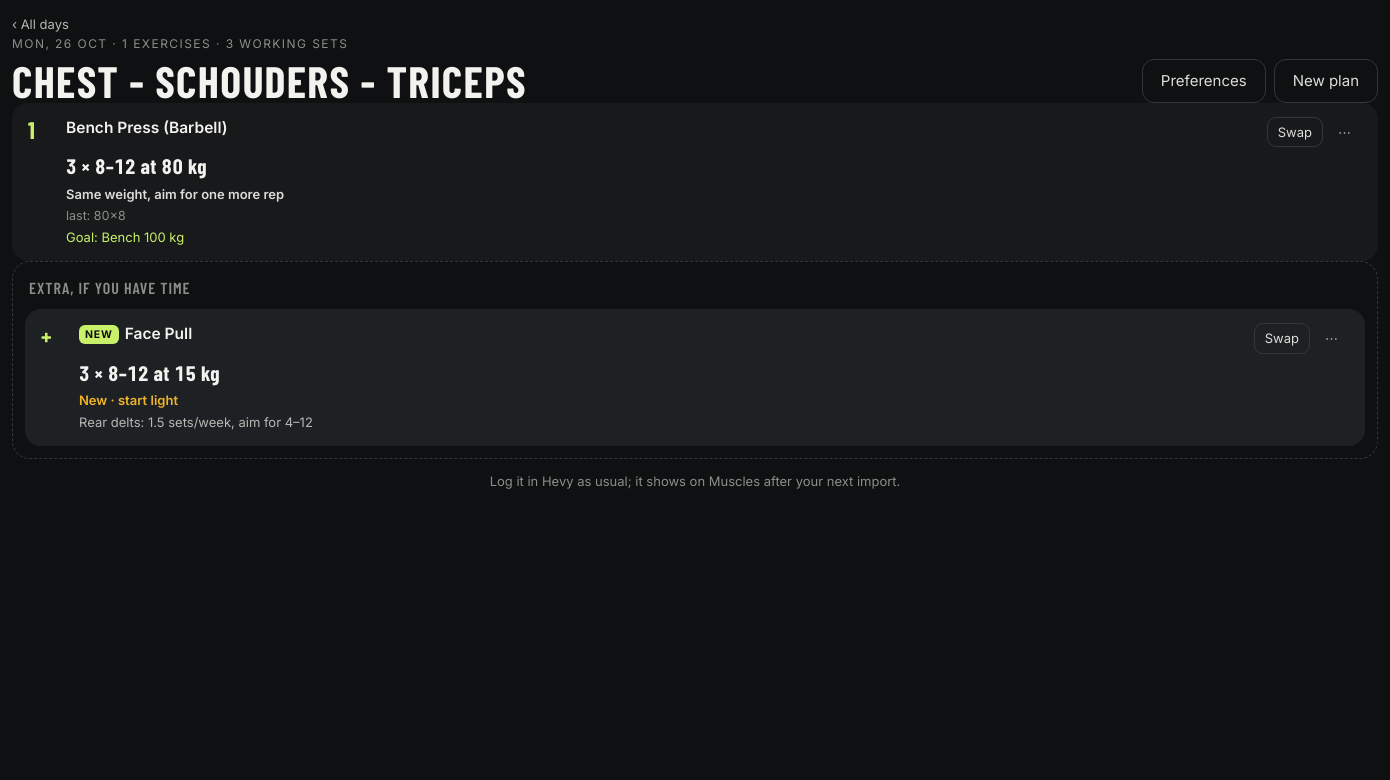
Plan page › closes the menu when tapping elsewhere
The image size is (1390, 780).
Expected: the text "Face Pull" is shown, [125, 324, 192, 343]
Step 1. Click the button named "More for Face Pull" → [1332, 338], box [1314, 323, 1349, 354]
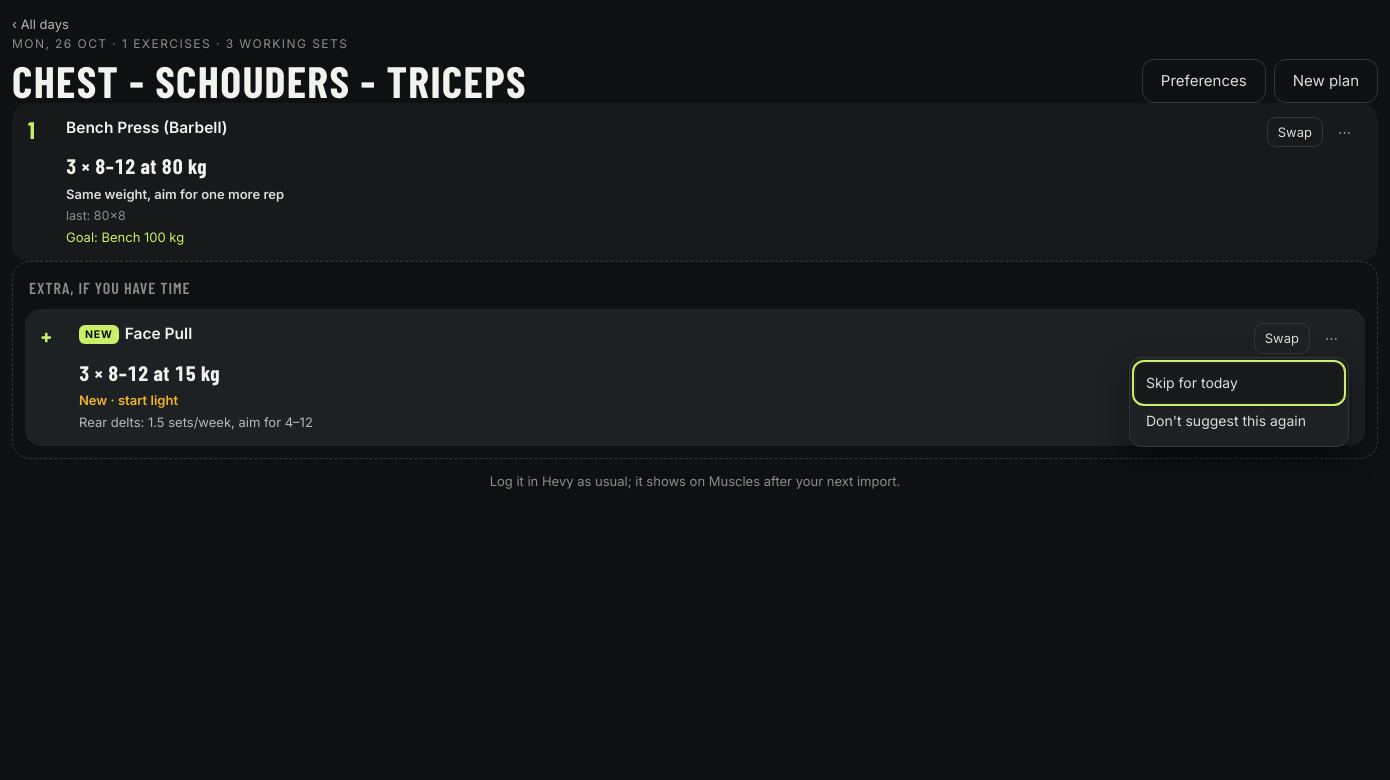
Step 2. Press the mouse on the element that starts with "‹ All days" → [695, 396], box [12, 12, 1378, 779]
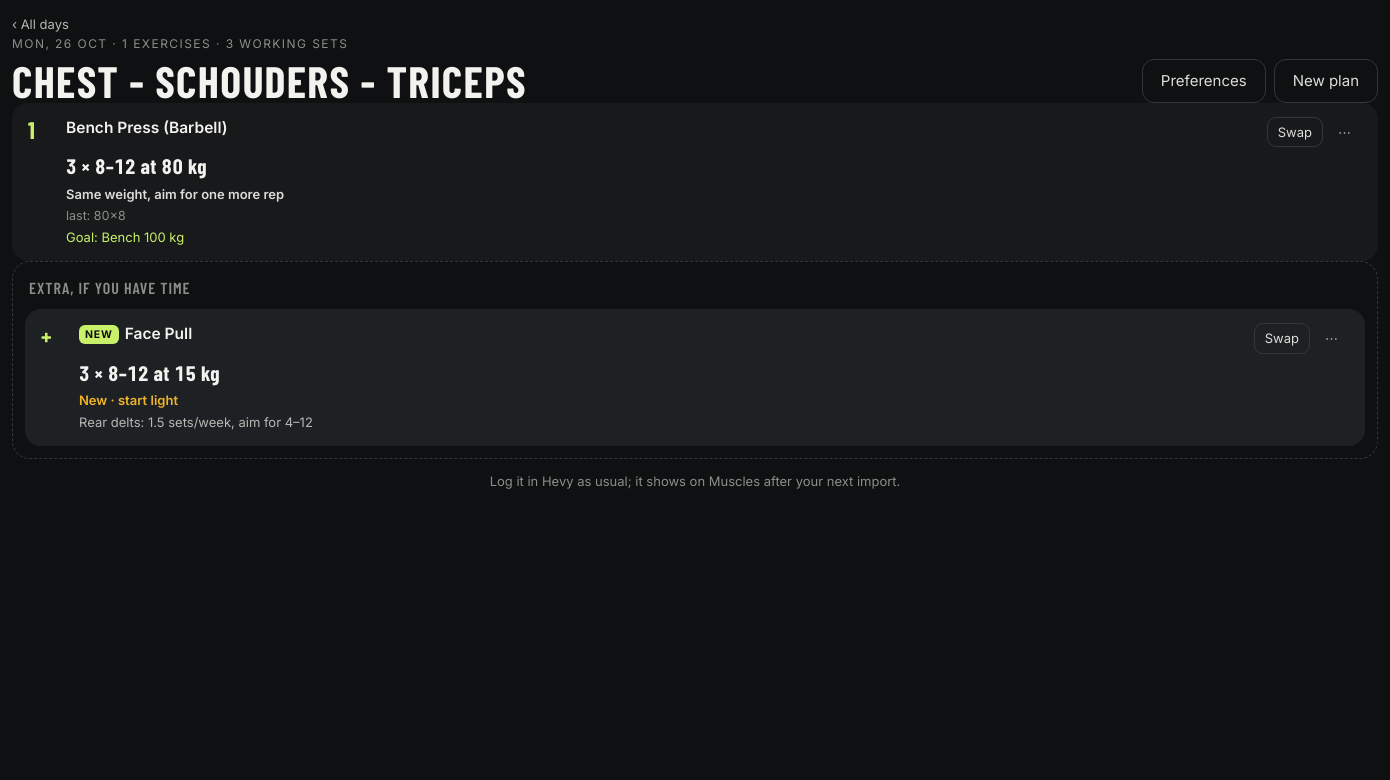
Result: the menu is gone
